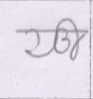i_matra: (62, 17, 81, 59)
